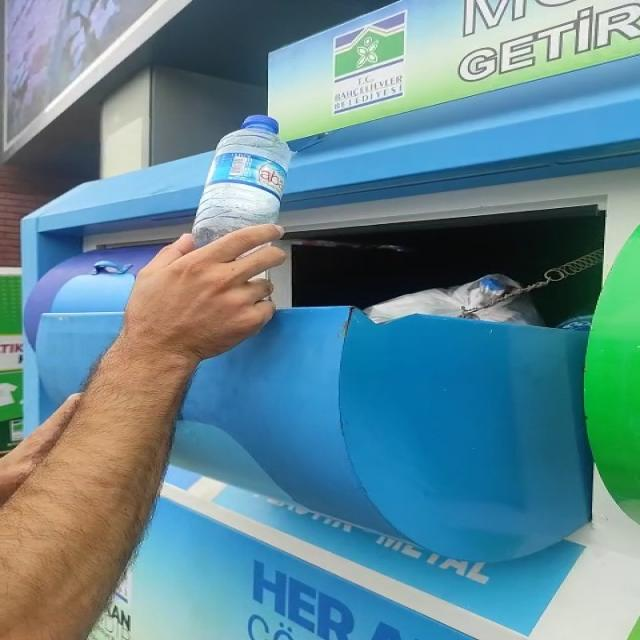plastic: (192, 115, 292, 244)
